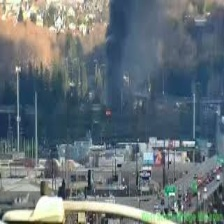smoke: (84, 1, 156, 111)
